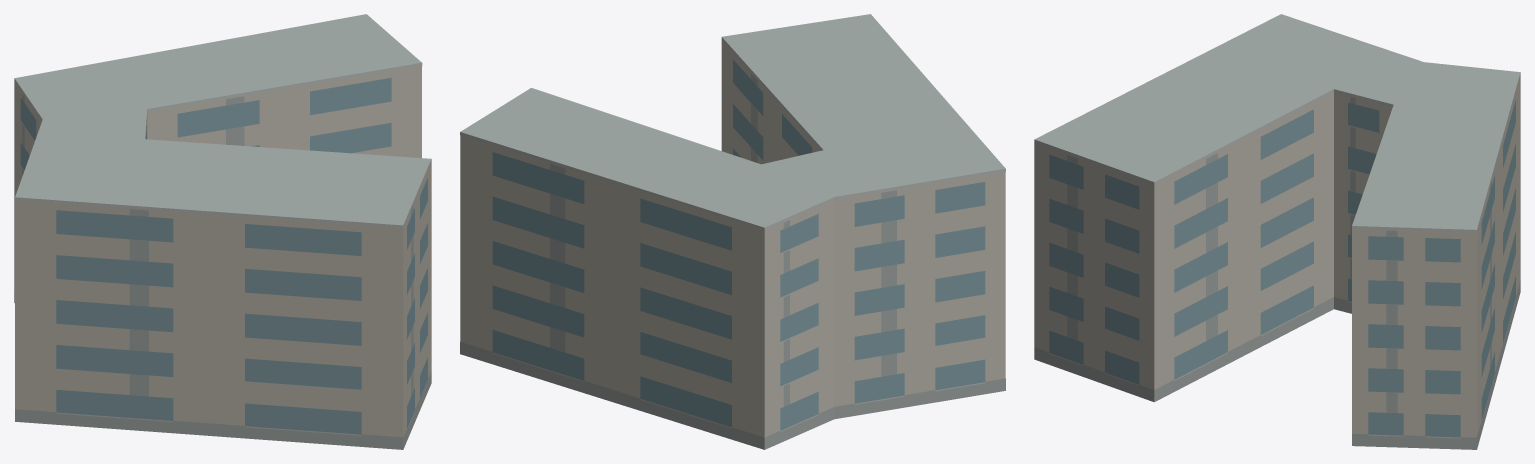
File: survey-upis-32504572.glb
3 renders of one model, left to right at view 1: azimuth 30°, elevation 25°; view 2: azimuth 150°, elevation 25°; view 3: azimuth 270°, elevation 25°, orthographic. The views are drawn at different scales.
Visible parts, largest first — view 1: survey-upis-32504572.tmp; view 2: survey-upis-32504572.tmp; view 3: survey-upis-32504572.tmp.
Boxes of the visible parts, x1,y1,x2,y2 form: survey-upis-32504572.tmp: (14, 14, 431, 449); survey-upis-32504572.tmp: (460, 14, 1005, 449); survey-upis-32504572.tmp: (1034, 14, 1520, 449).
Bounding box in the file's own units: 32.09 × 15.25 × 30.54.
